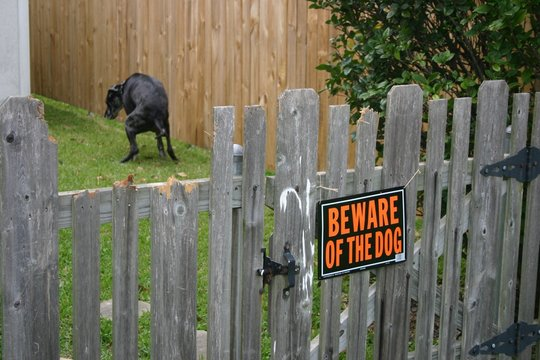dog_pooping: (101, 69, 196, 169)
